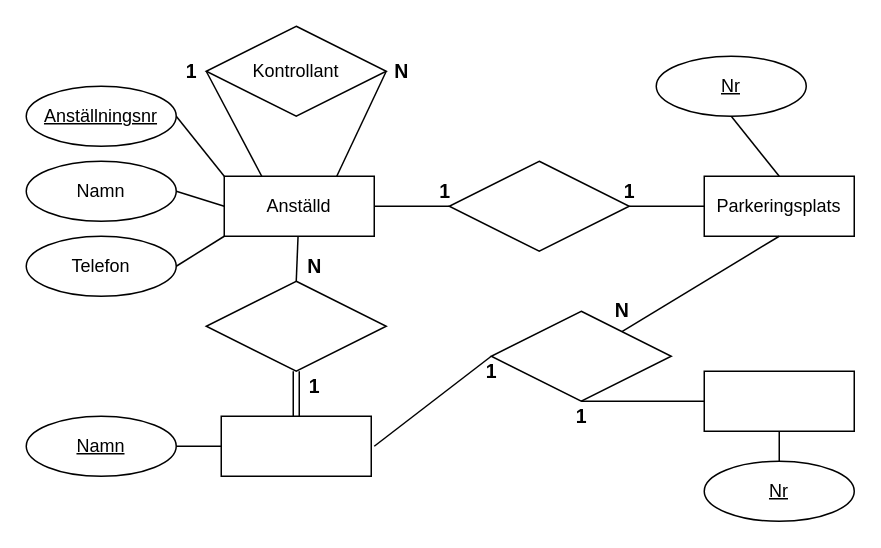
This 881x548 diagram has some shape labels left out. The shapes that lost their labels are listed below. From the top down, each one's box as (x1, y1, x2, y2) in pixels, then its label:
(448, 160, 629, 251): Har
(205, 280, 386, 371): Arbetar på
(490, 310, 671, 401): Hör till
(703, 370, 854, 431): Våning
(220, 415, 371, 476): Avdelning
